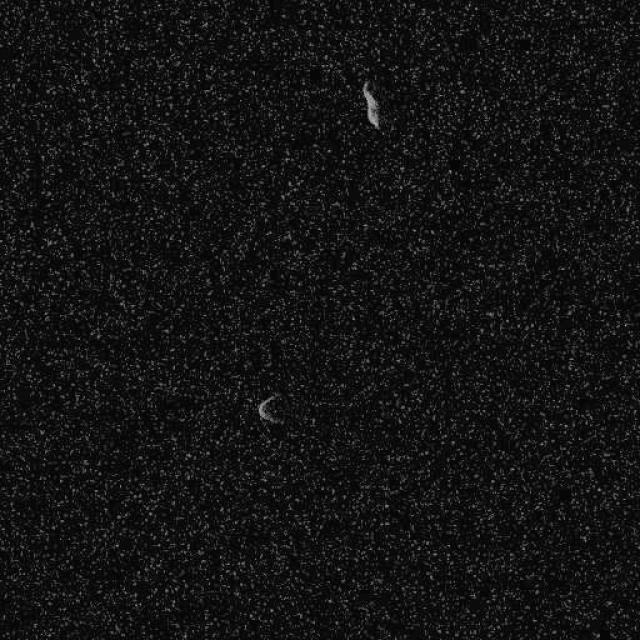D2: (256, 392, 285, 427), (360, 79, 380, 129)
